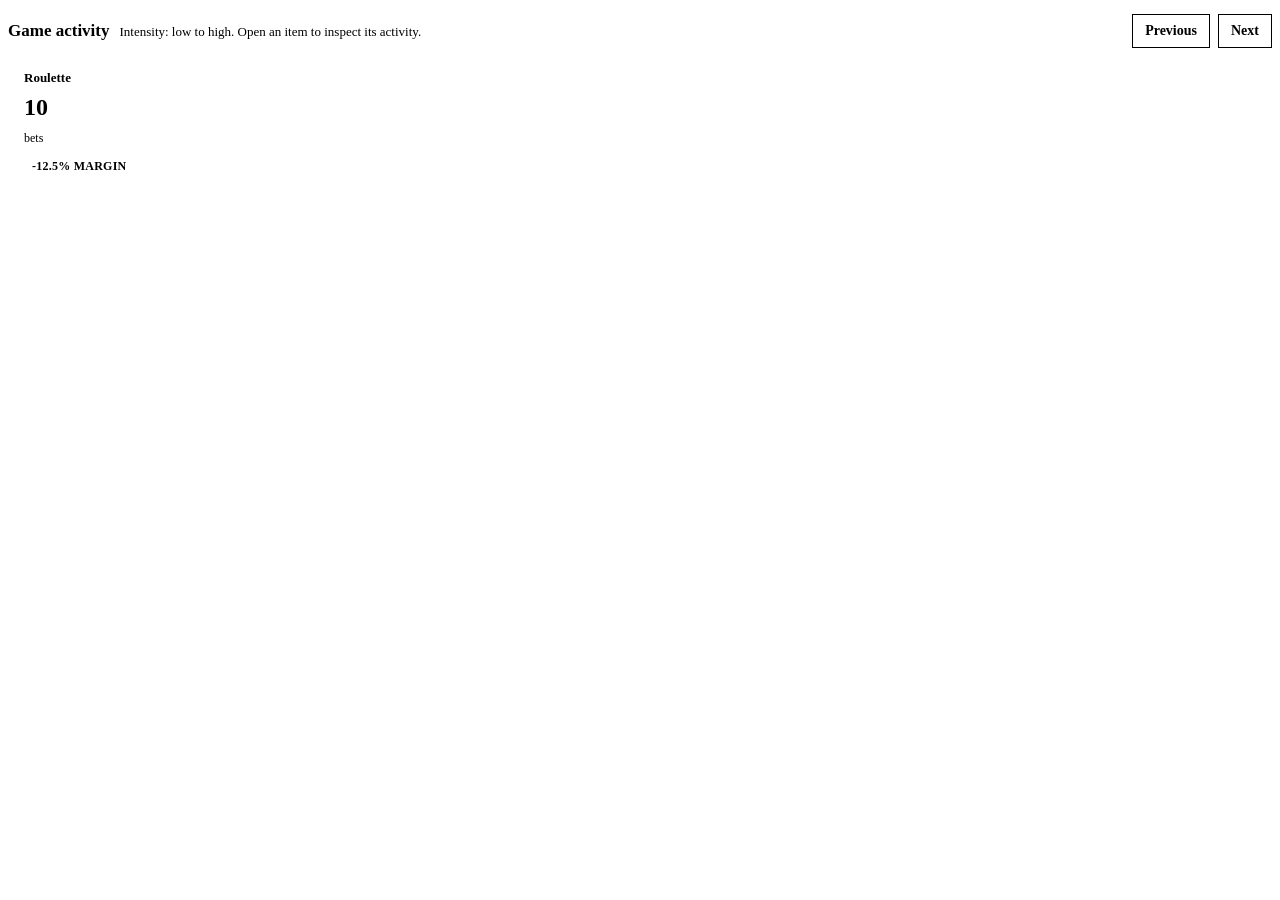
Test: casino activity heatmap › provides activity and signed margins with touch/keyboard detail access
Later steps or results of the test are not shown.
Click the button "Roulette 10 bets -12.5% margin": (118, 130) [8,54,228,207]
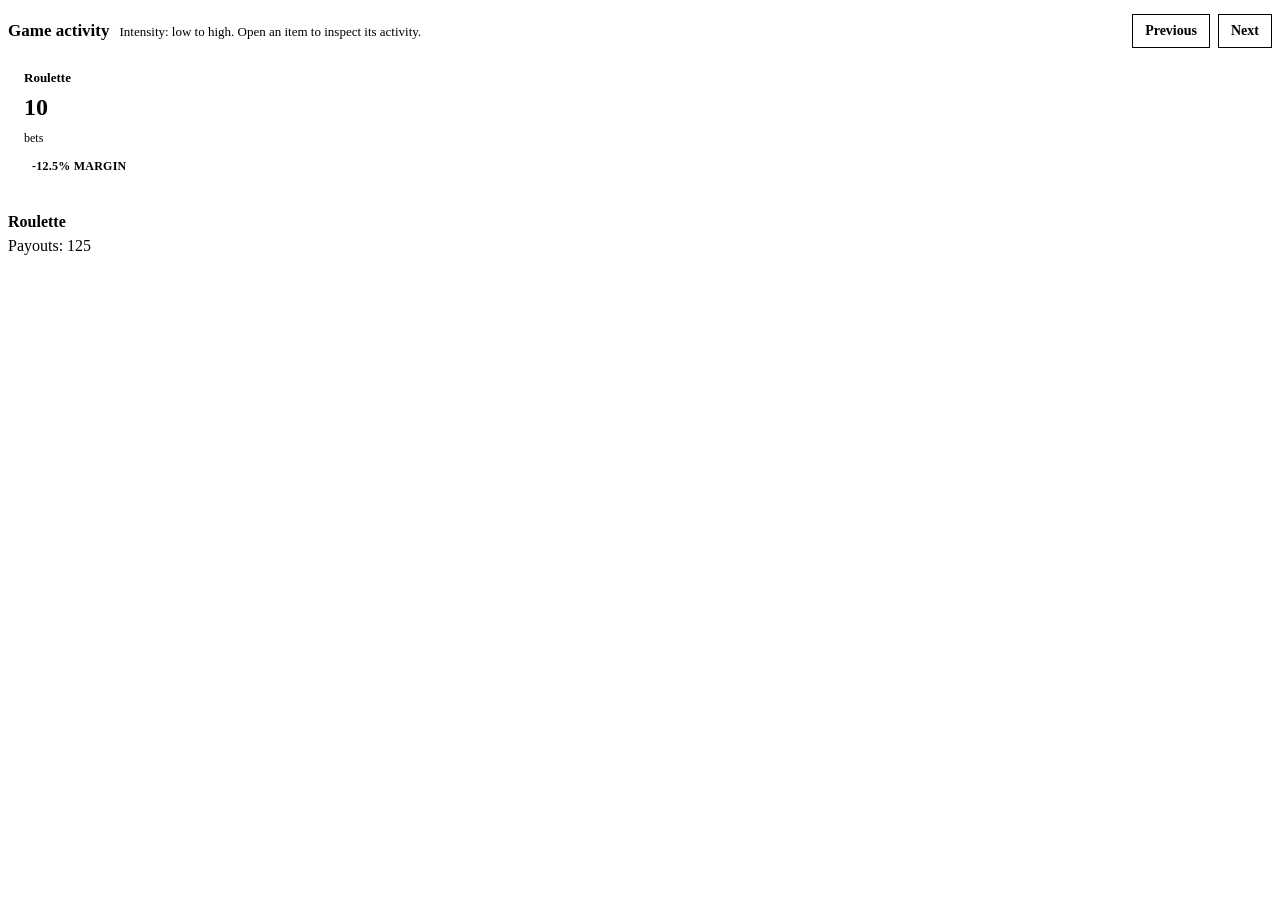
expect the text "Payouts: 125" is shown: met, box [8,237,91,254]
